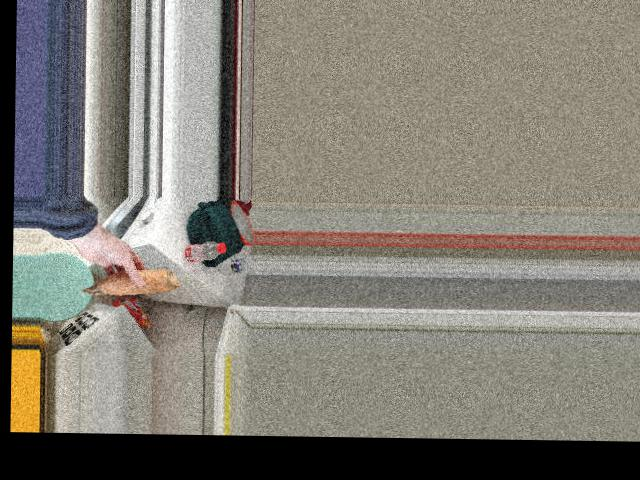sweet_potato: (84, 265, 181, 296)
